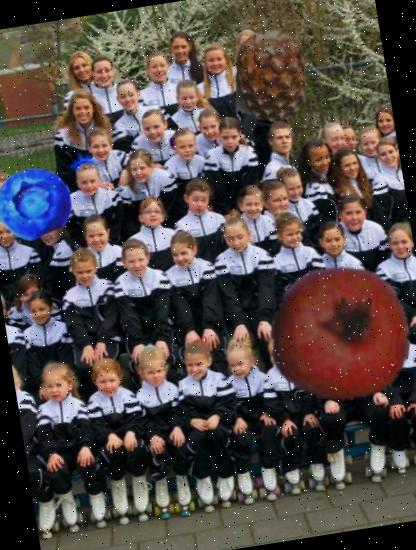Huckleberry: (0, 159, 78, 246)
Pineapple: (216, 22, 326, 130)
Pomegranate: (262, 254, 416, 413)
